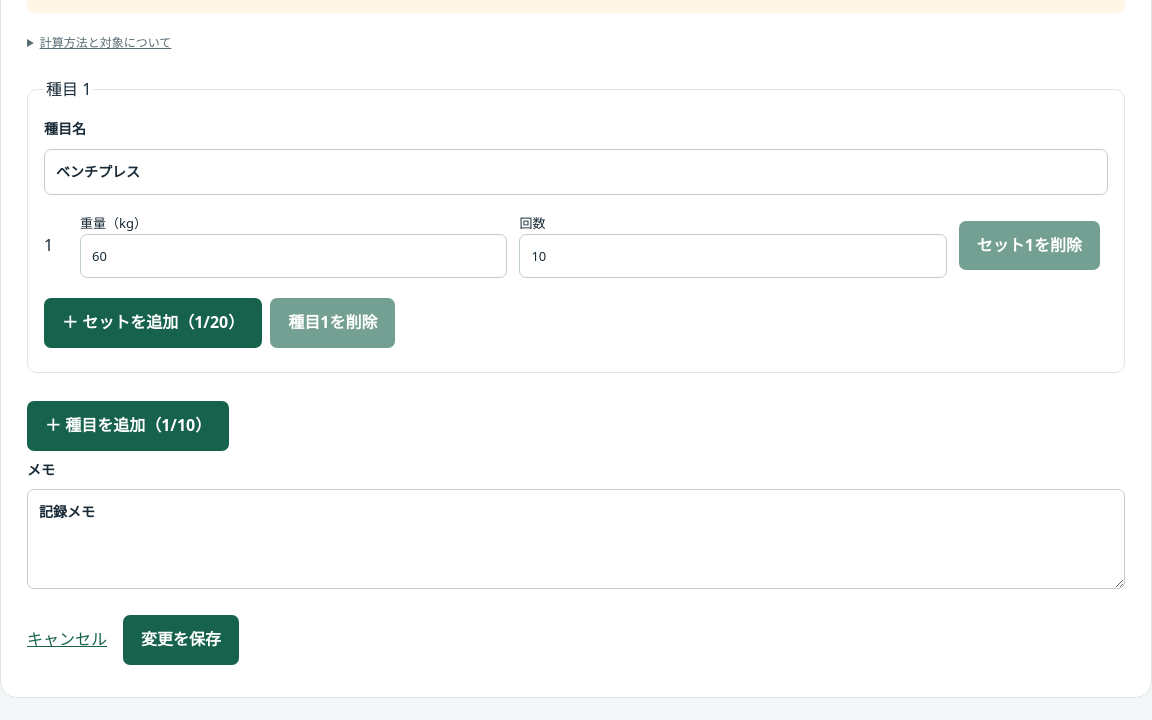
Test: discards an edit when a concurrent deletion returns 404
(page scrolled)
Expected: the text box labelled "メモ" holds "記録メモ", [27,489,1125,589]
Click the button "変更を保存": (181, 640) [123,615,239,665]
(page scrolled)
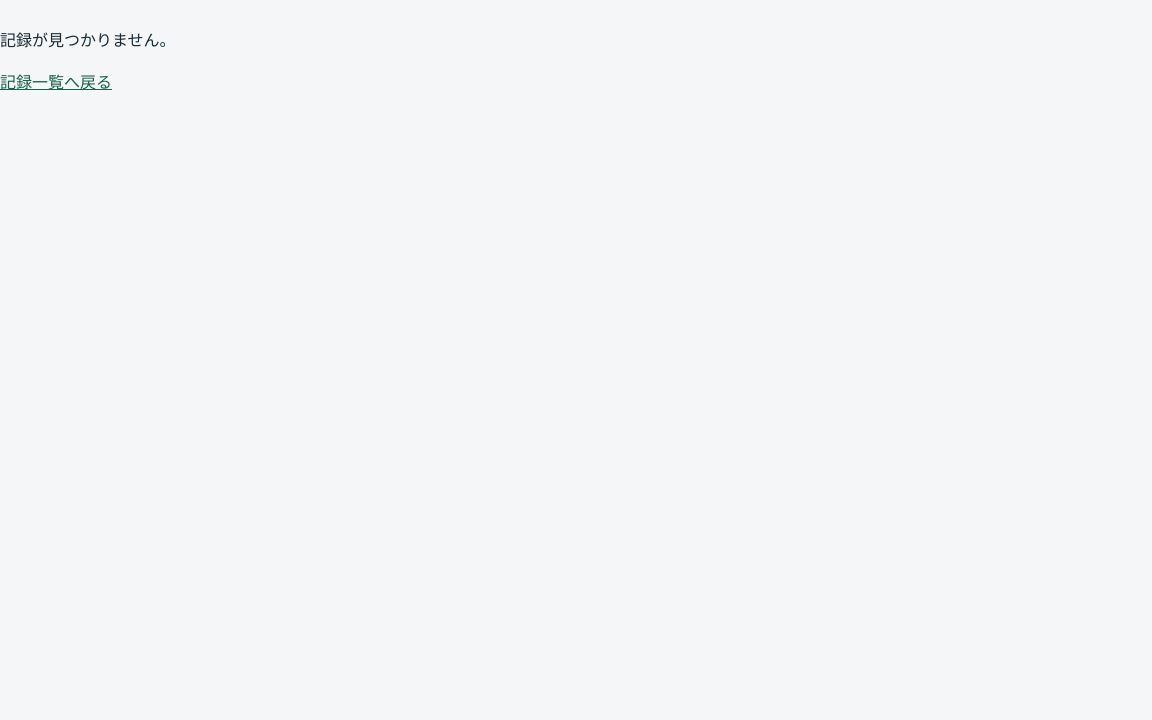
Result: the text "記録が見つかりません。" is shown at [0,29,176,51]
Result: the label labelled "メモ" is gone
